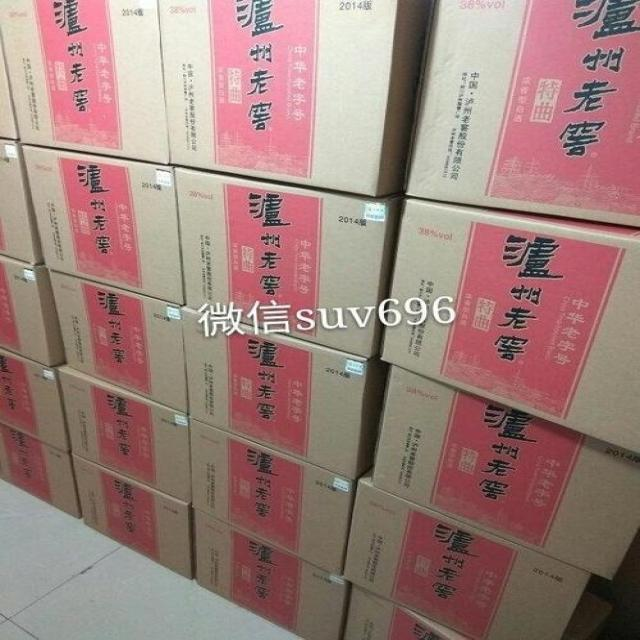box: (381, 198, 639, 450), (372, 364, 639, 580), (159, 1, 441, 197), (405, 1, 639, 231), (170, 168, 403, 360), (340, 473, 595, 639), (182, 305, 392, 481), (0, 0, 170, 166), (18, 143, 184, 304), (189, 416, 355, 574), (191, 506, 350, 639), (43, 272, 188, 412), (56, 363, 194, 507), (71, 454, 192, 579), (2, 420, 79, 521), (0, 349, 70, 452), (346, 583, 473, 639), (1, 256, 64, 366), (0, 140, 43, 266)
